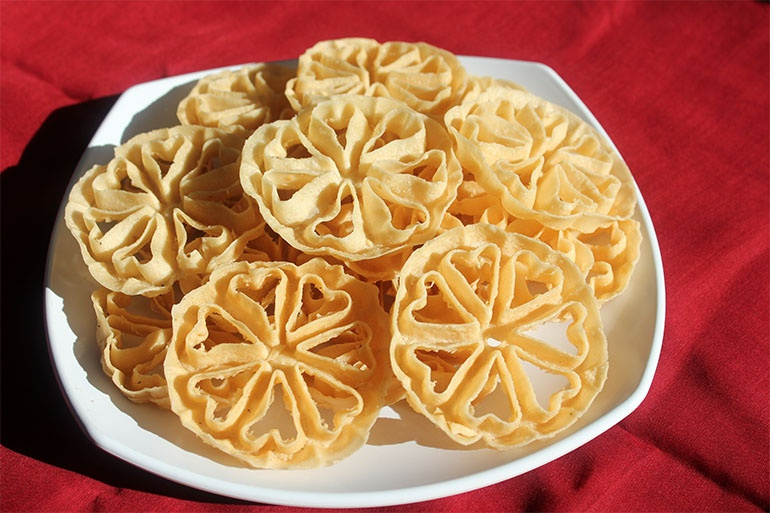kembang_goyang: (159, 245, 399, 475), (390, 214, 610, 445), (247, 82, 449, 254)
